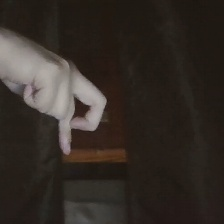P: (1, 20, 115, 164)
